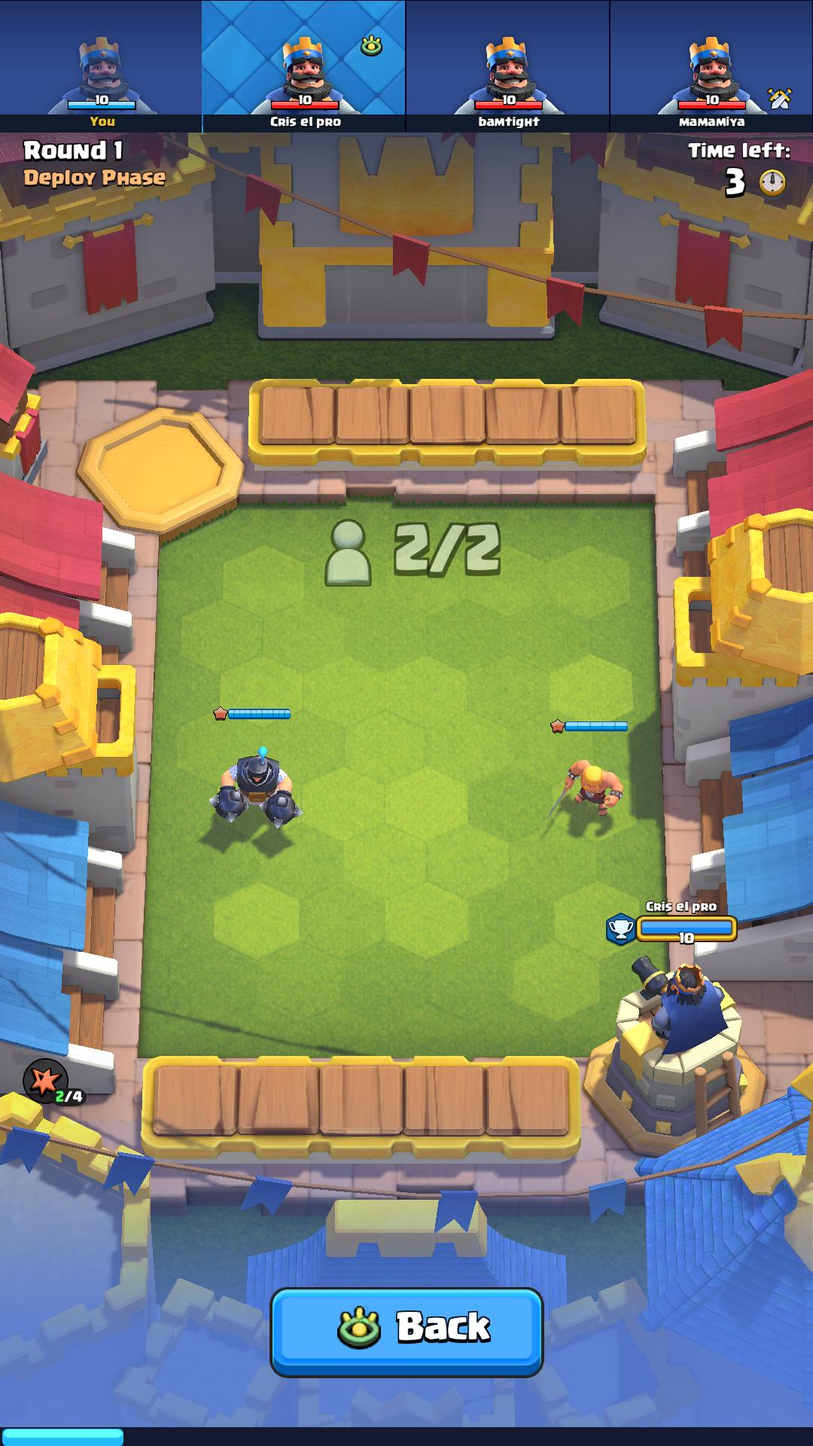barbarian: (545, 746, 633, 825)
mega: (193, 737, 317, 846)
